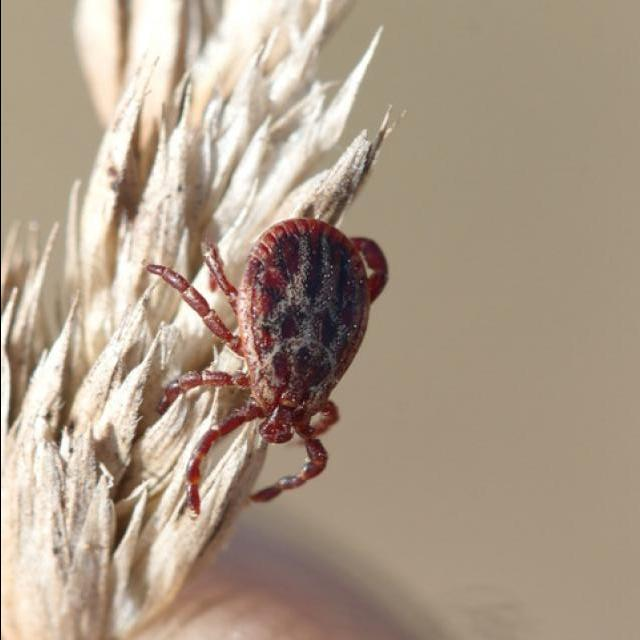Dermacentor Reticulatus-M: (145, 218, 387, 517)
